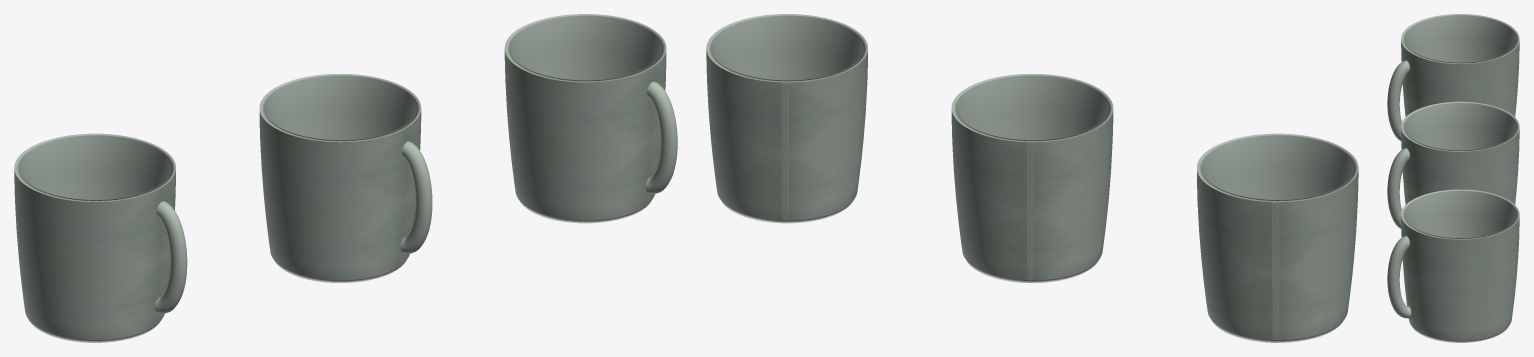
The model's file is ORI-51.glb.
3 renders of one model, left to right at view 1: azimuth 30°, elevation 25°; view 2: azimuth 150°, elevation 25°; view 3: azimuth 270°, elevation 25°, orthographic. The views are drawn at different scales.
Size of the model in its own units: 0.3599 by 0.08 by 0.0892.
9 materials, 3 textured.
